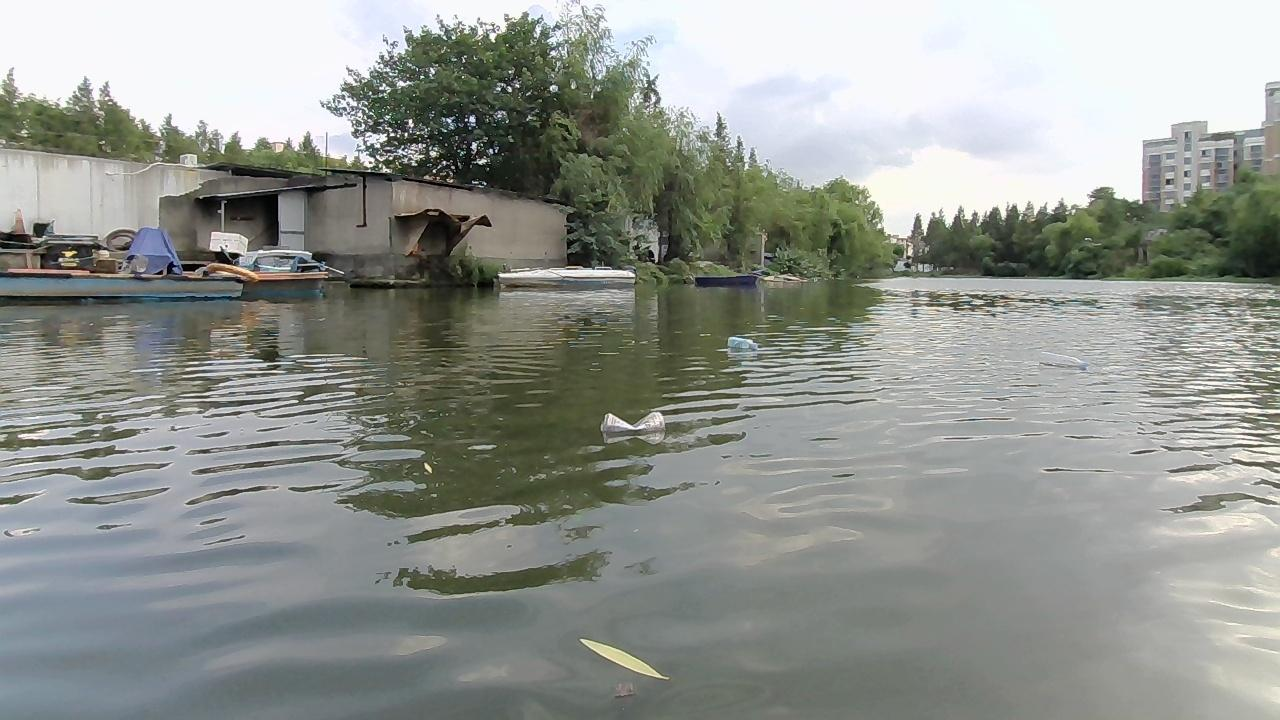bottle: (601, 407, 664, 437), (1036, 350, 1095, 374), (726, 337, 763, 352)
